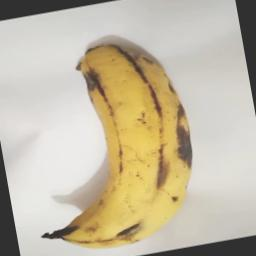Banana Unripe: (7, 27, 216, 256)
